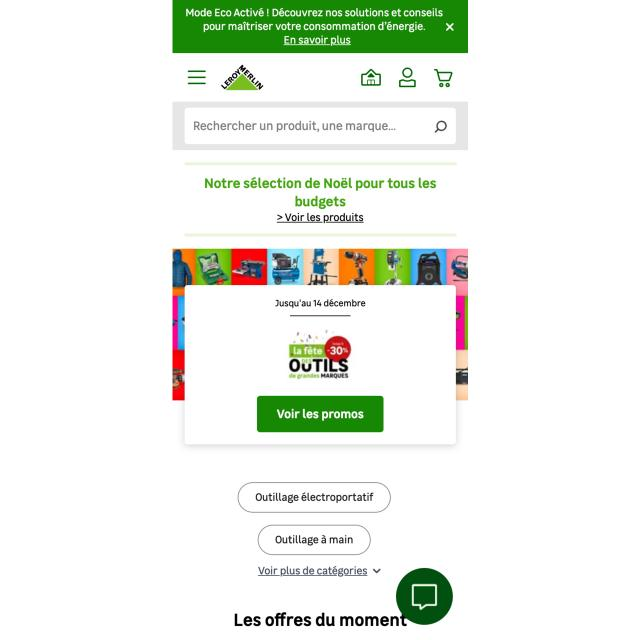input: (183, 105, 457, 146)
logo: (217, 62, 265, 93)
navigation: (184, 67, 210, 88)
